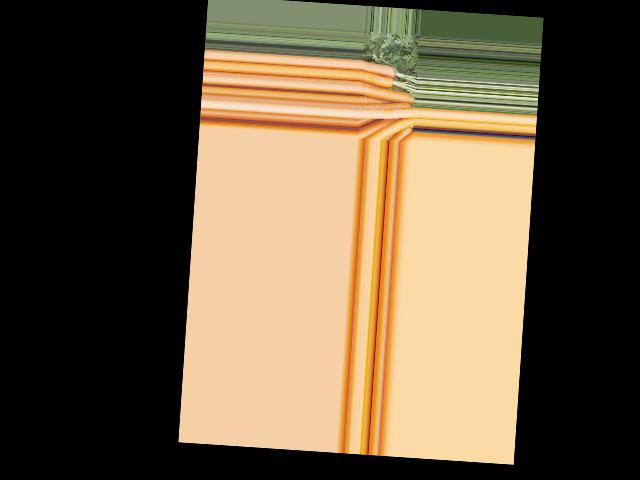carrot: (368, 117, 412, 141)
